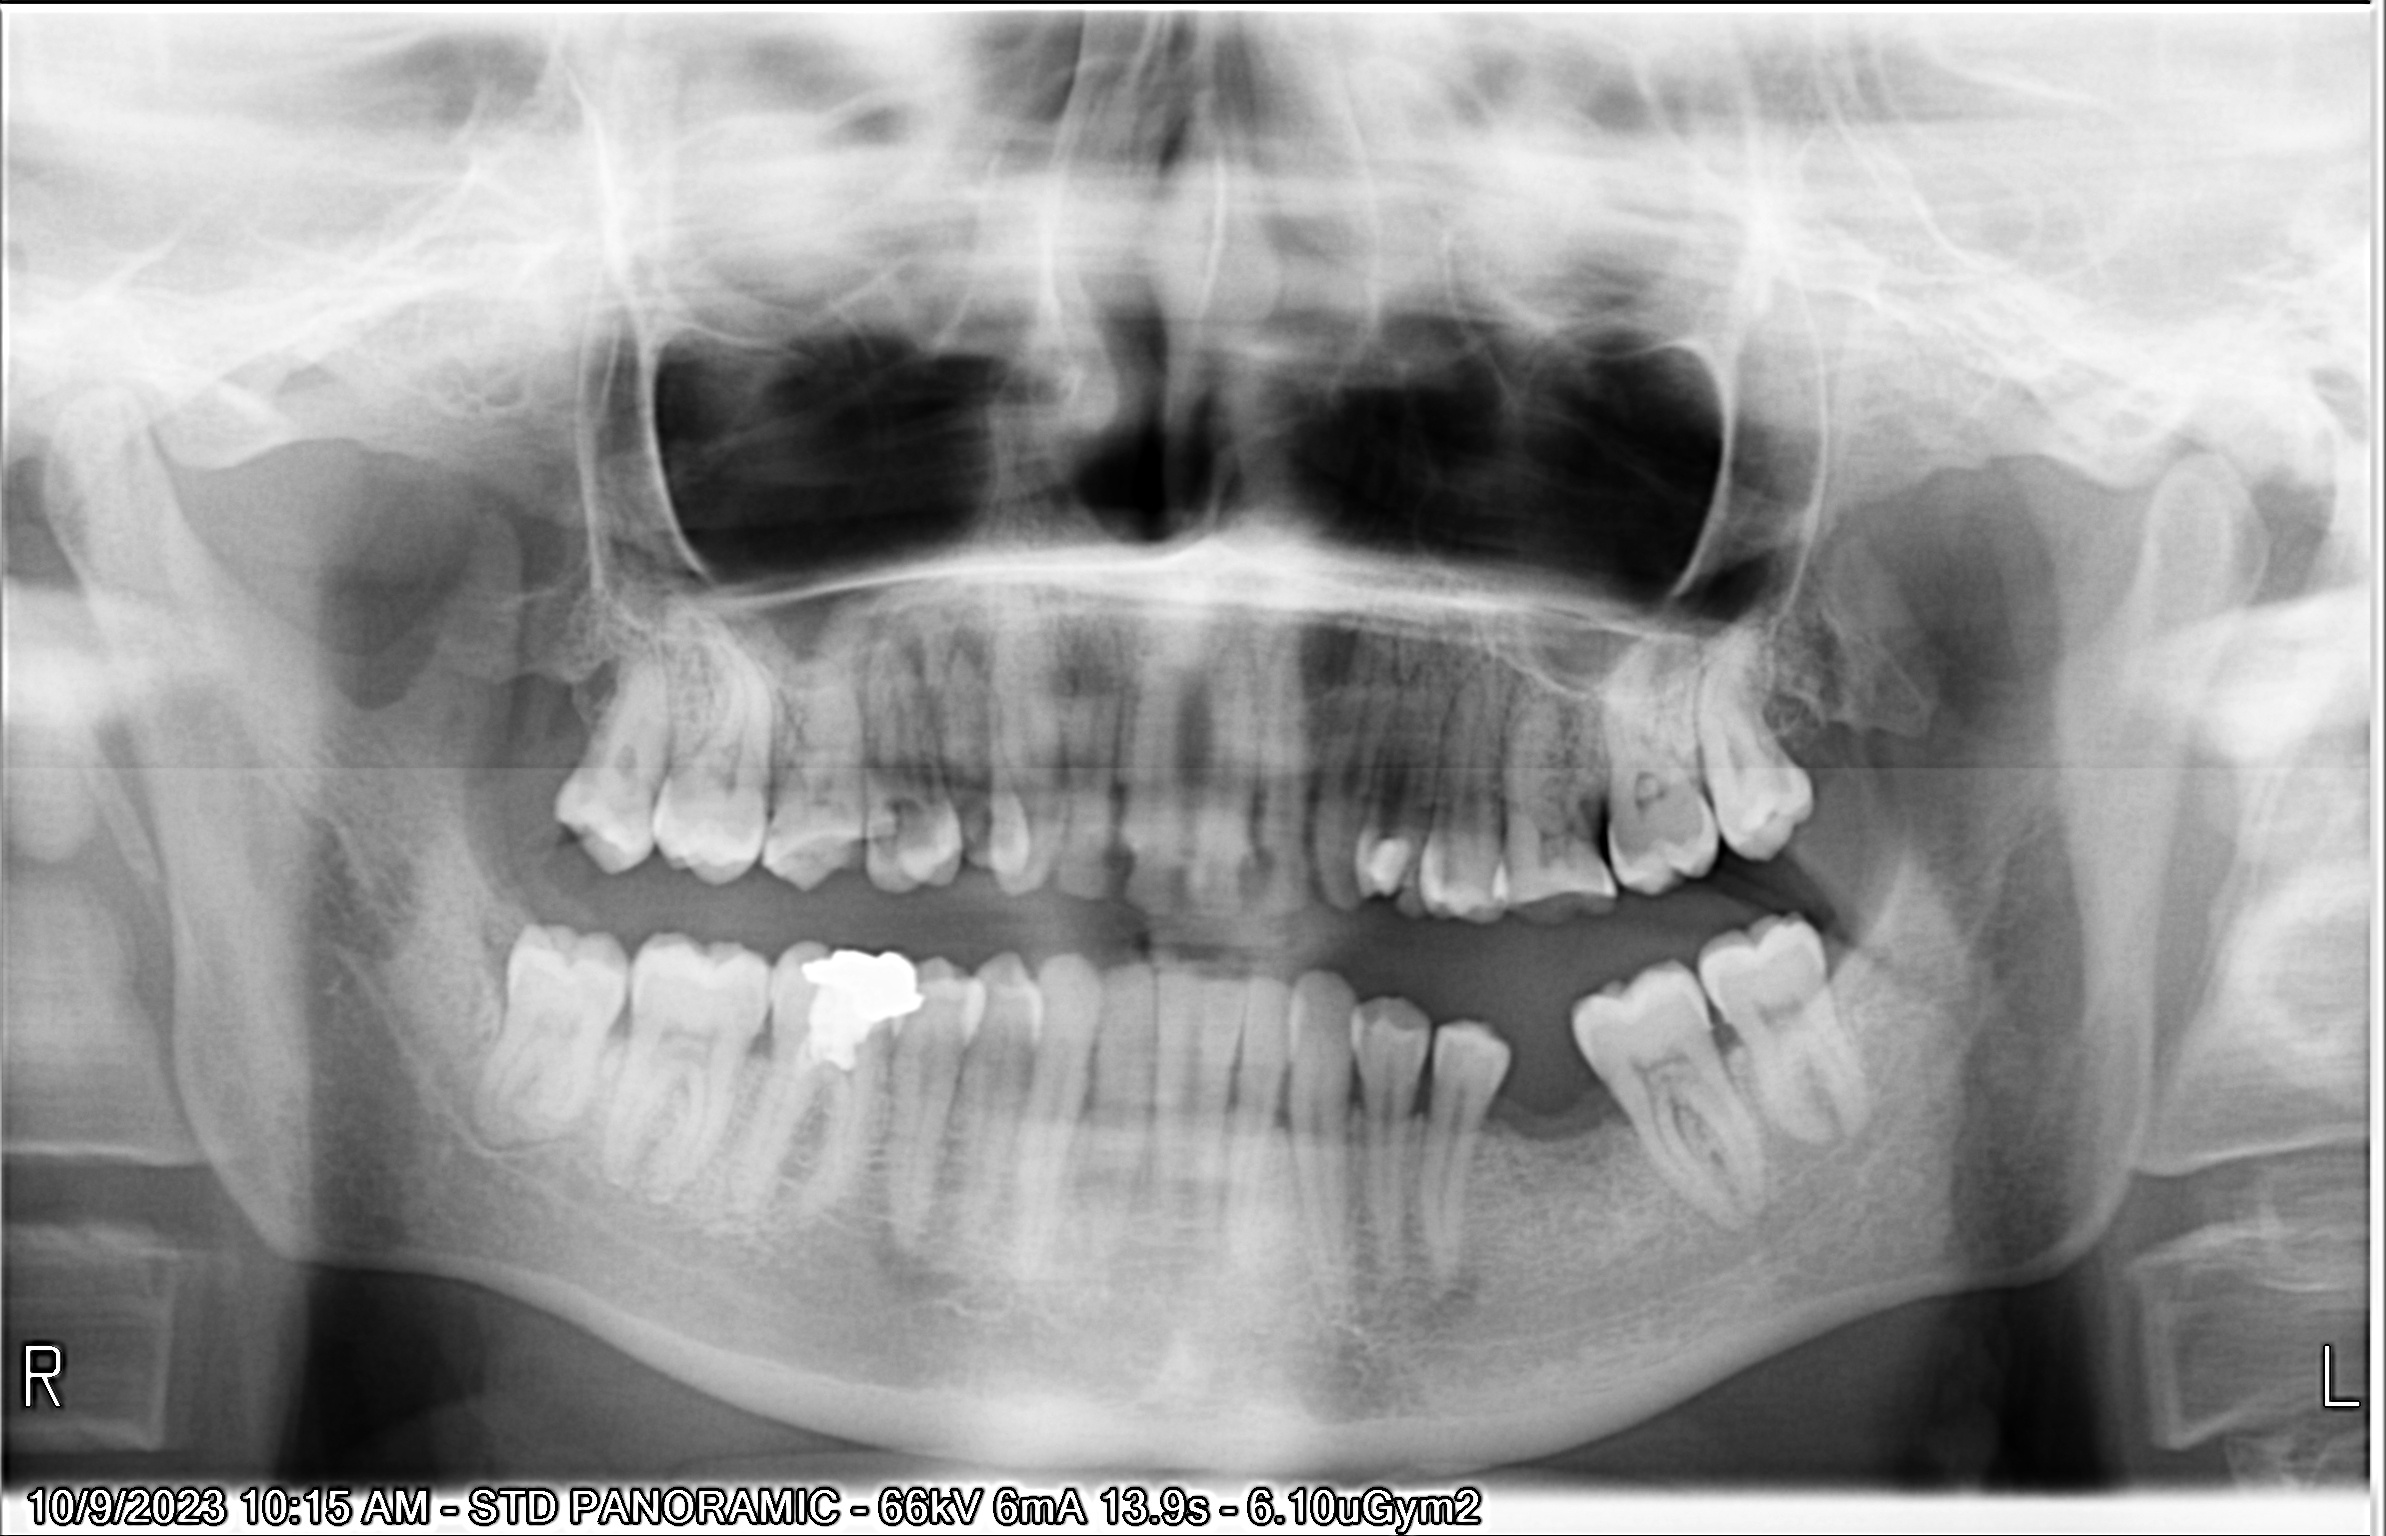BON: (819, 468, 2386, 1536), (746, 358, 2372, 1209)
CAR: (609, 383, 1897, 1298), (593, 393, 1850, 1313), (530, 386, 1690, 1277), (402, 364, 1341, 1228)
OBT: (642, 374, 2063, 1279), (320, 409, 1242, 1484)
